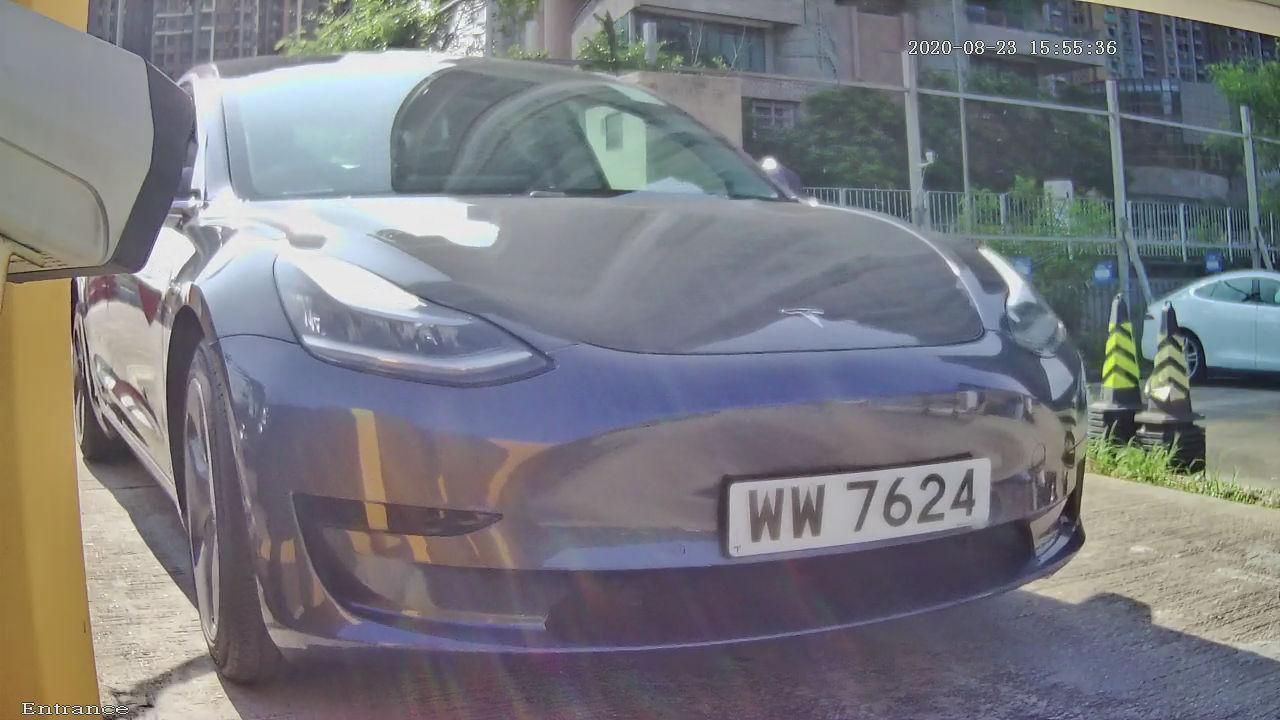License Plate: (678, 407, 1021, 585)
